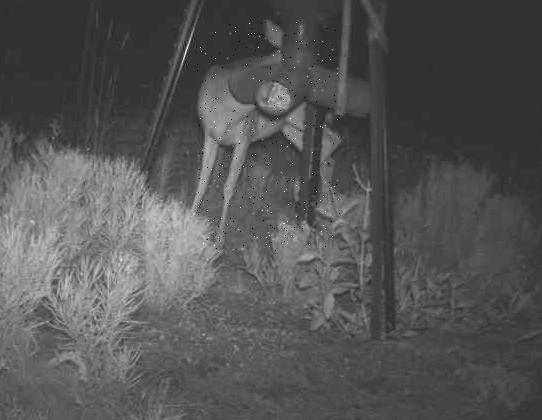Deer: (195, 20, 340, 253)
